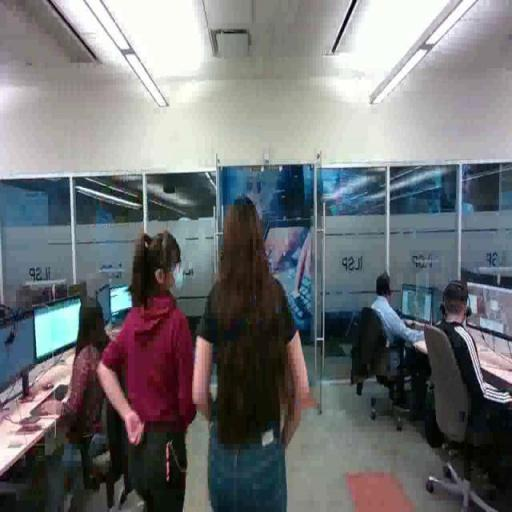person: (194, 197, 314, 512), (99, 231, 197, 512), (42, 299, 108, 512), (439, 282, 512, 431), (372, 273, 431, 421)
